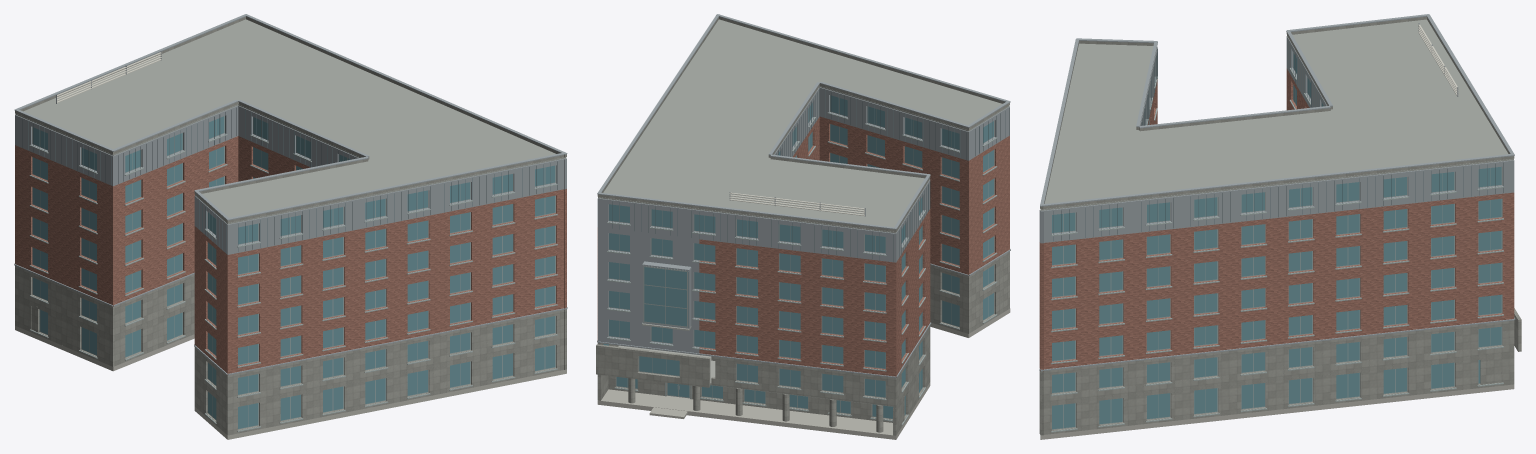
The picture shows the model from 3 angles, left to right: view 1: azimuth 30°, elevation 25°; view 2: azimuth 150°, elevation 25°; view 3: azimuth 270°, elevation 25°; orthographic projection. The views are drawn at different scales.
Visible parts, largest first — view 1: dorm__brick, dorm__roof, dorm__glass, dorm__stone, dorm__metal, dorm__frame, dorm__shade, dorm__threshold-entry, dorm__white; view 2: dorm__roof, dorm__brick, dorm__glass, dorm__metal, dorm__stone, dorm__frame, dorm__threshold-entry, dorm__shade, dorm__white, dorm__slab; view 3: dorm__roof, dorm__brick, dorm__glass, dorm__stone, dorm__metal, dorm__frame, dorm__threshold-entry, dorm__shade, dorm__white.
Part boxes in pixels (box(x1,y1,x2,y2)): dorm__brick: box(15, 136, 566, 374); dorm__roof: box(15, 19, 566, 224); dorm__glass: box(33, 116, 555, 428); dorm__stone: box(15, 17, 566, 435); dorm__metal: box(14, 14, 567, 375); dorm__frame: box(29, 116, 557, 431); dorm__shade: box(22, 107, 557, 252); dorm__threshold-entry: box(15, 326, 566, 439); dorm__white: box(57, 52, 161, 102); dorm__roof: box(598, 19, 1009, 233); dorm__brick: box(597, 116, 1009, 377); dorm__glass: box(603, 95, 993, 418); dorm__metal: box(597, 14, 1010, 389); dorm__stone: box(596, 17, 1009, 435); dorm__frame: box(607, 95, 997, 425); dorm__threshold-entry: box(597, 308, 1010, 439); dorm__shade: box(612, 89, 1009, 261); dorm__white: box(729, 192, 864, 215); dorm__slab: box(604, 87, 892, 406); dorm__roof: box(1040, 19, 1513, 210); dorm__brick: box(1039, 68, 1514, 371); dorm__glass: box(1052, 53, 1501, 429); dorm__stone: box(1039, 16, 1521, 435); dorm__metal: box(1039, 14, 1515, 371); dorm__frame: box(1051, 68, 1503, 432); dorm__threshold-entry: box(1040, 384, 1514, 439); dorm__shade: box(1053, 40, 1503, 241); dorm__white: box(1418, 24, 1458, 95).
Bounding box in the file's own units: 43.85 × 25.97 × 46.45.
10 materials, 2 textured.
